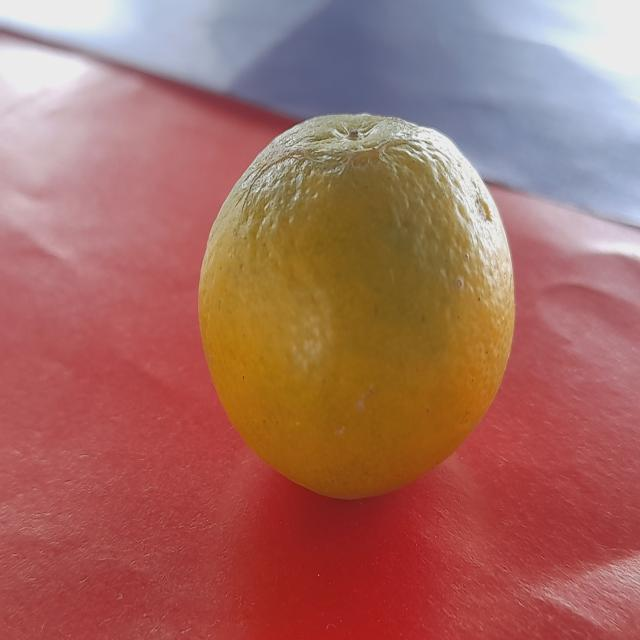greening: (198, 96, 520, 489)
